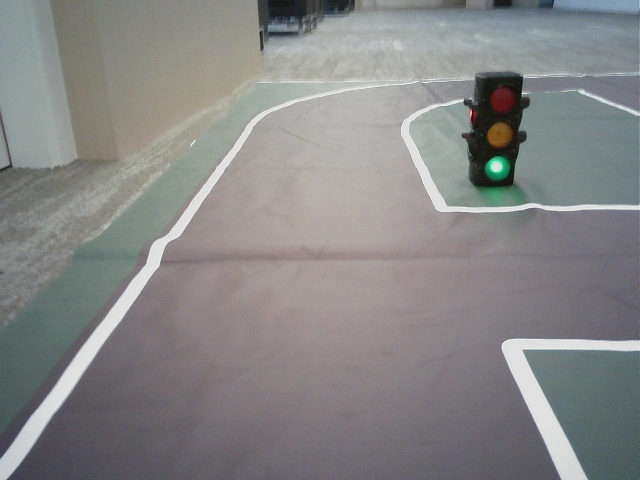green: (476, 81, 521, 180)
